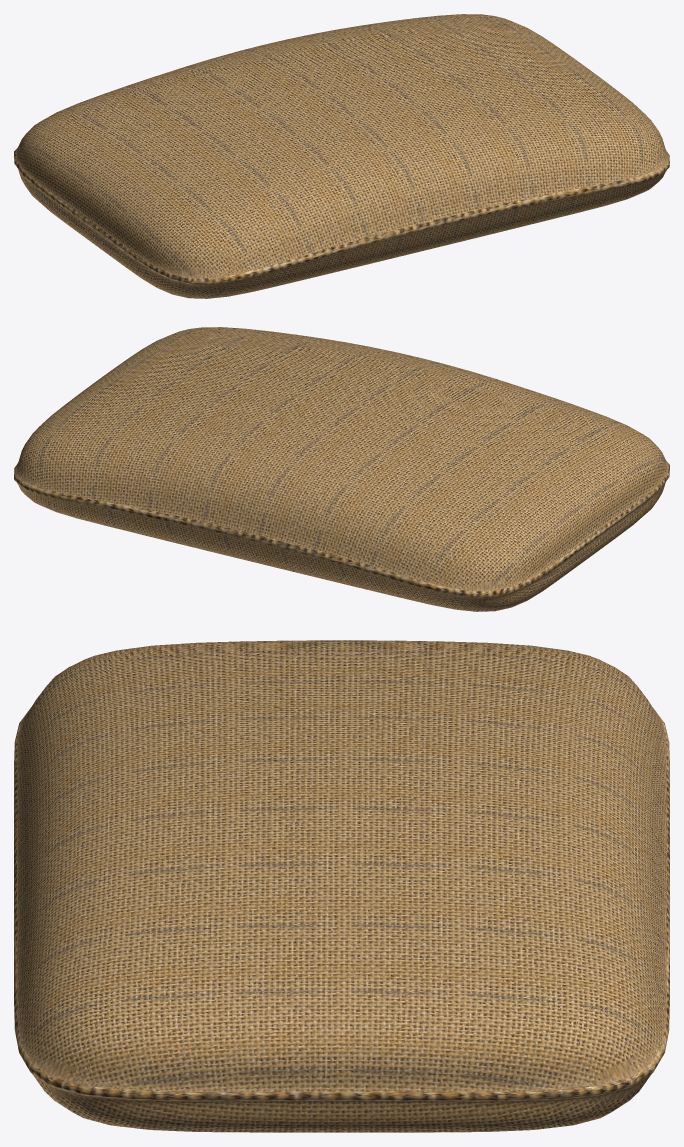
The model's file is Sack.fbx.
3 renders of one model, top to bottom at view 1: azimuth 30°, elevation 25°; view 2: azimuth 150°, elevation 25°; view 3: azimuth 270°, elevation 25°, orthographic. The views are drawn at different scales.
Visible parts, largest first — view 1: SACK; view 2: SACK; view 3: SACK.
Part boxes in pixels (<box>): SACK: <box>14,14,669,298</box>; SACK: <box>14,327,669,611</box>; SACK: <box>14,640,669,1132</box>.
Bounding box in the file's own units: 1.01 × 0.6833 × 0.2171.
